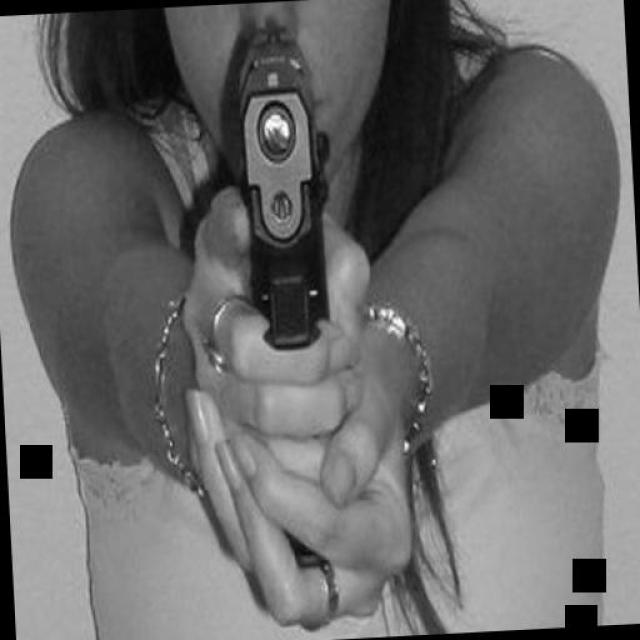gun: (235, 22, 325, 352)
